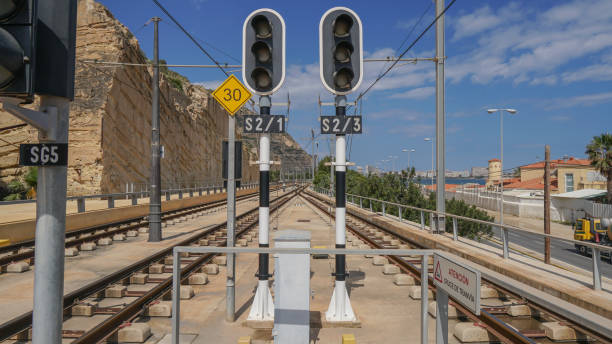Traffic Signal: (315, 4, 376, 106), (240, 5, 289, 99)
Truck: (566, 206, 612, 252)
